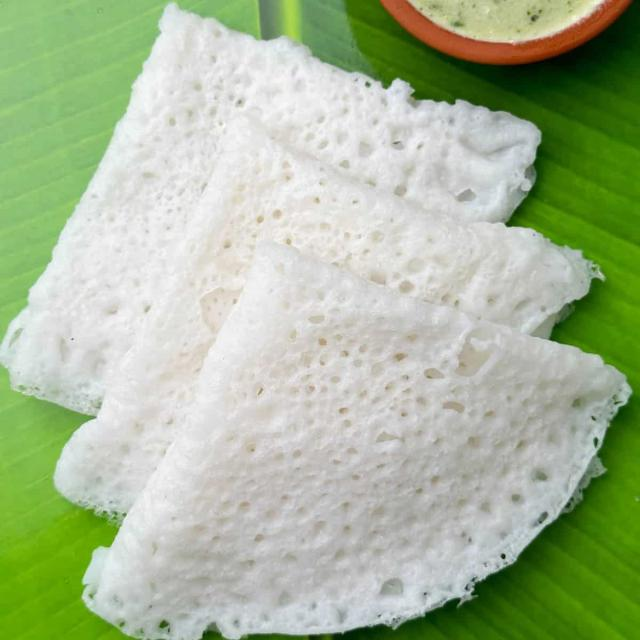DOSA: (80, 235, 632, 639), (10, 1, 542, 405), (60, 115, 608, 504)
